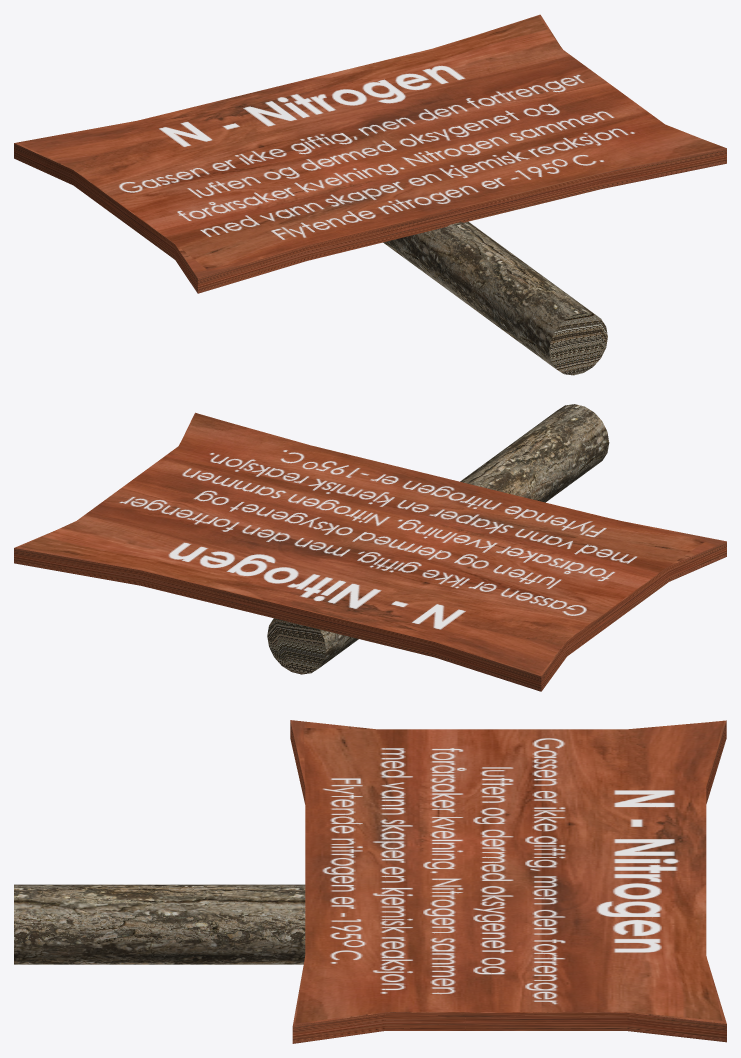
Rendered from SkiltN_2.FBX.
3 renders of one model, top to bottom at view 1: azimuth 30°, elevation 25°; view 2: azimuth 150°, elevation 25°; view 3: azimuth 270°, elevation 25°, orthographic. The views are drawn at different scales.
Parts seen in each view (by area): view 1: SkiltN; view 2: SkiltN; view 3: SkiltN.
Boxes of the visible parts, x1,y1,x2,y2 form: SkiltN: (14, 14, 726, 375); SkiltN: (14, 404, 726, 691); SkiltN: (14, 720, 726, 1043).
Bounding box in the file's own units: 108 × 14.69 × 107.
3 materials, 3 textured.
